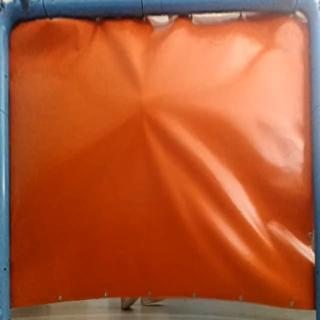Hit-hRxx: (136, 99, 153, 118)
